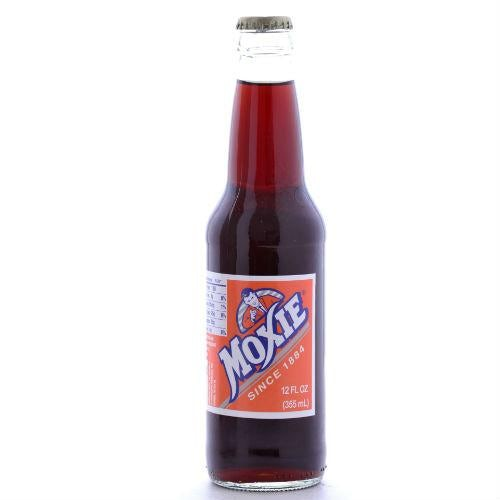Rec_Glass: (189, 6, 334, 492)
